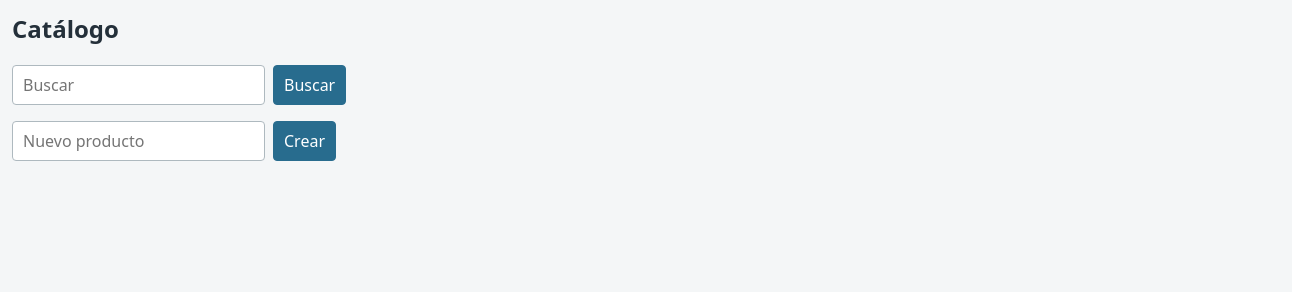
Scenario: sugerencias automáticas del catálogo › agrega la sugerencia por el flujo existente y recarga búsqueda tradicional
This screenshot has width=1292, height=292.
Type "café" into the field with placeholder "Buscar".
click(138, 85); type("café")  # box [12,65,265,105]
Wait 300 ms
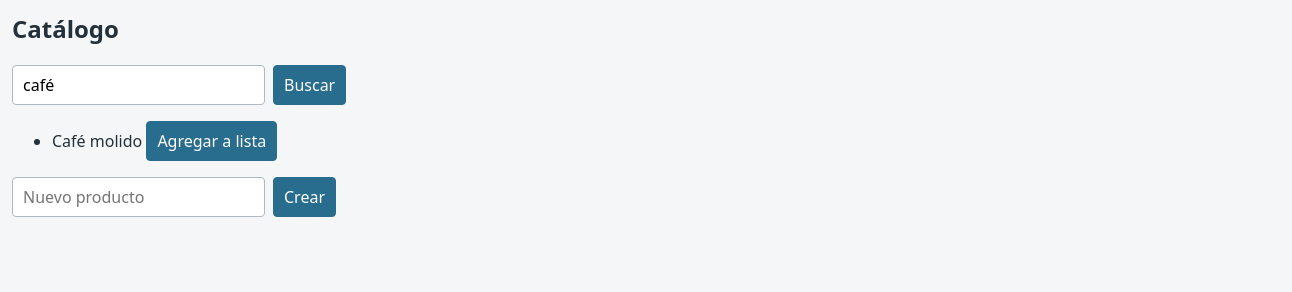
Click the button "Agregar a lista".
click(212, 141)  # box [146,121,277,161]
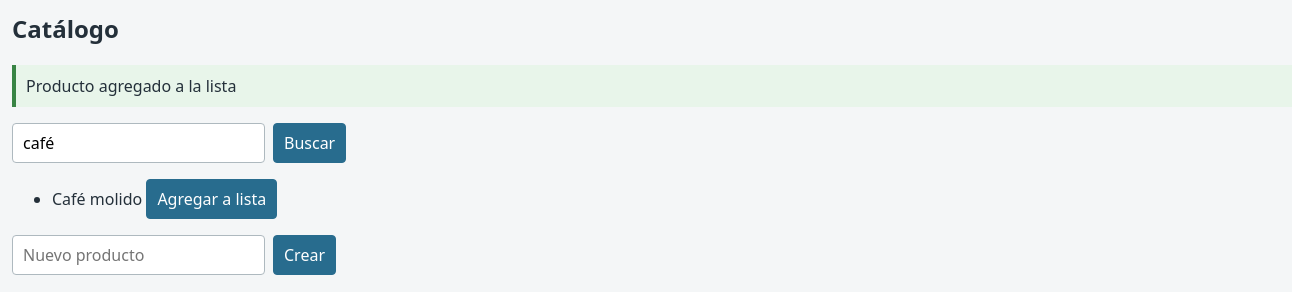
Expected: the text "Producto agregado a la lista" is shown, [12,65,1291,107]
